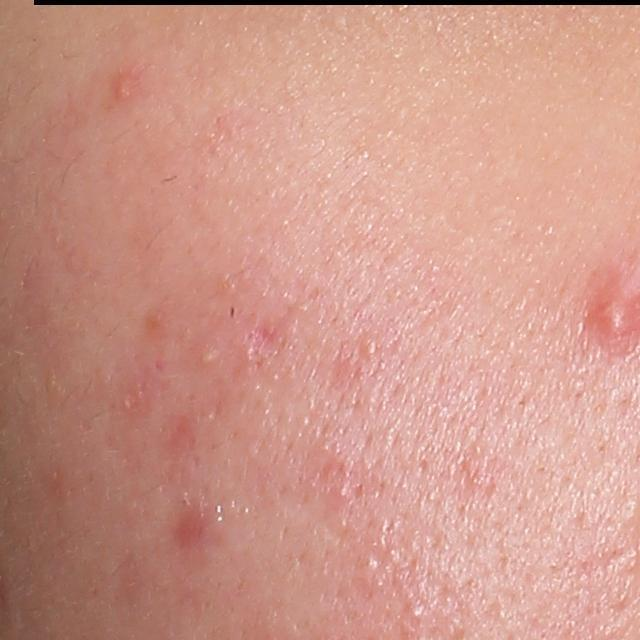comedo: (359, 332, 378, 359), (362, 552, 379, 572)
papule: (168, 504, 214, 551), (110, 72, 133, 104)
